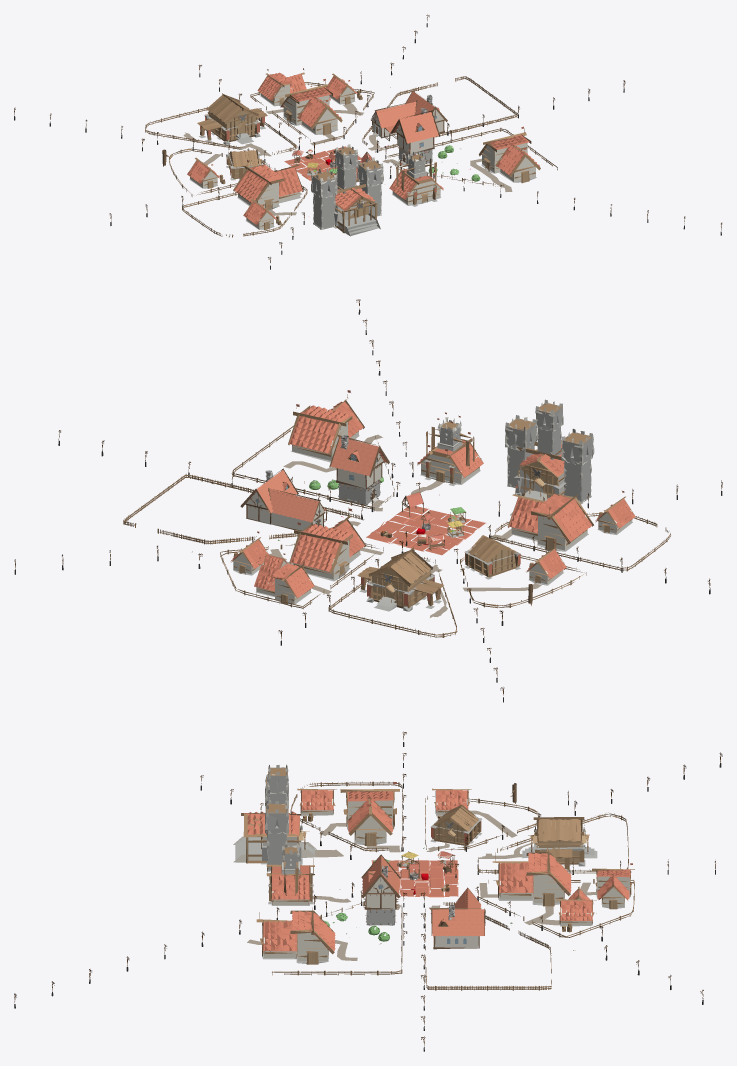
File: chunk_1_1_lod1.glb
3 views of the same model, one above another, from view 1: azimuth 30°, elevation 25°; view 2: azimuth 150°, elevation 25°; view 3: azimuth 270°, elevation 25° (orthographic). The views are drawn at different scales.
Visible parts, largest first — view 1: Batched_Chunk_1_1.001; view 2: Batched_Chunk_1_1.001; view 3: Batched_Chunk_1_1.001.
Boxes of the visible parts, x1,y1,x2,y2 form: Batched_Chunk_1_1.001: [14, 14, 722, 269]; Batched_Chunk_1_1.001: [14, 299, 722, 702]; Batched_Chunk_1_1.001: [14, 731, 722, 1051].
Size of the model in its own units: 173 by 26.52 by 170.
